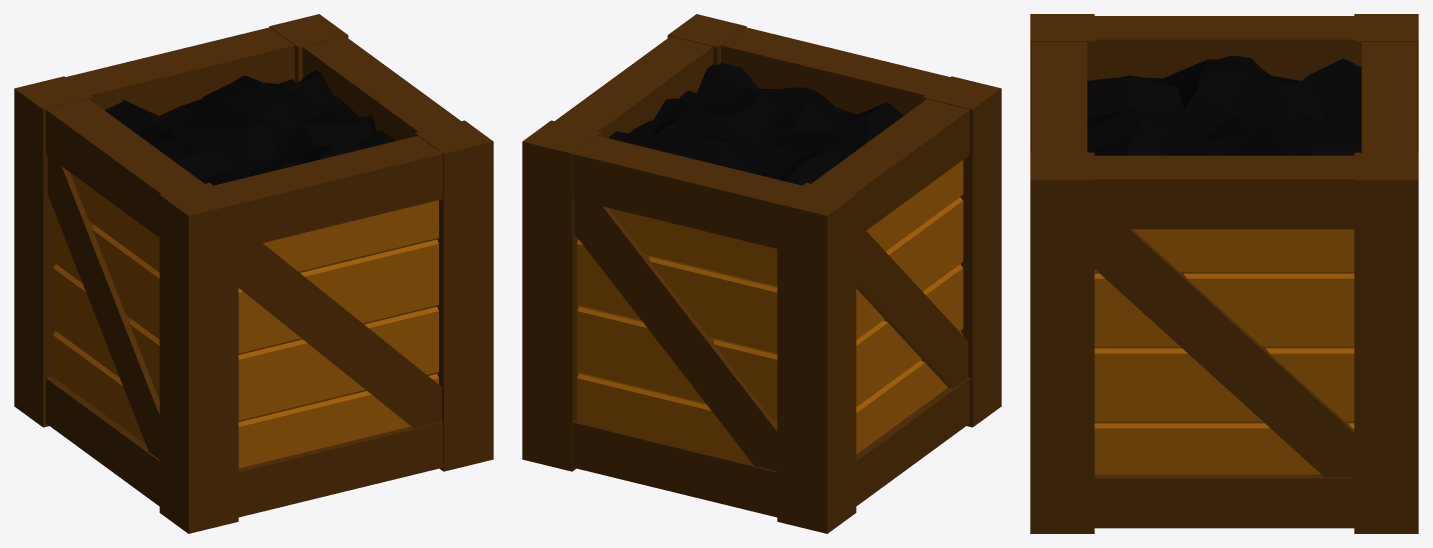
The model's file is coal crate.fbx.
3 renders of one model, left to right at view 1: azimuth 30°, elevation 25°; view 2: azimuth 150°, elevation 25°; view 3: azimuth 270°, elevation 25°, orthographic. The views are drawn at different scales.
Visible parts, largest first — view 1: coal crate; view 2: coal crate; view 3: coal crate.
Part boxes in pixels (bbox=[...]): coal crate: bbox=[14, 14, 493, 533]; coal crate: bbox=[522, 14, 1001, 533]; coal crate: bbox=[1030, 14, 1418, 533].
Size of the model in its own units: 238 by 237 by 235.
